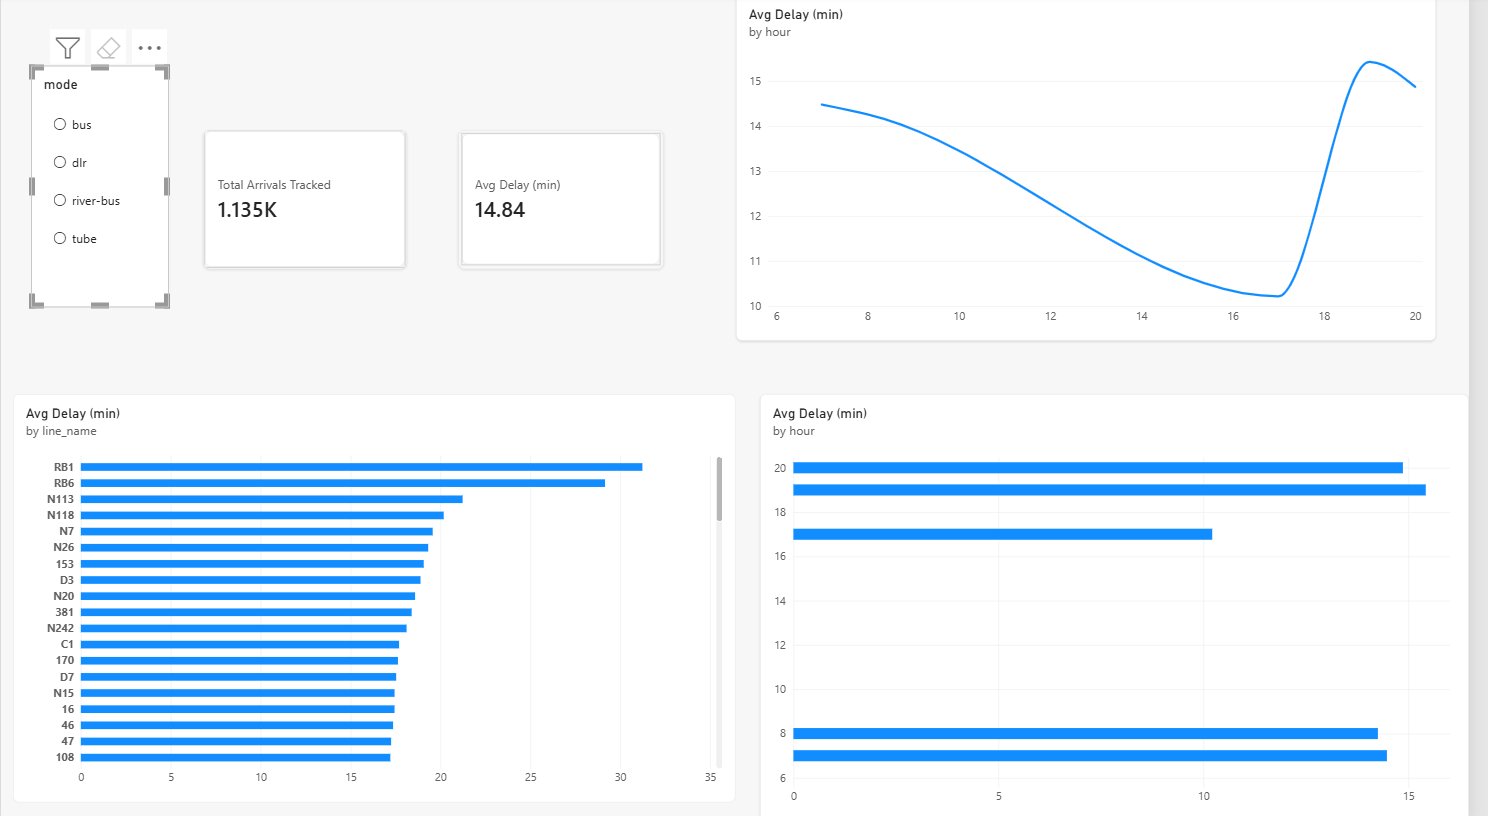

Layout of this report page (visuals, bound fields, positions):
{"tool":"powerbi","page":{"name":"Page 1","canvas":[1920,1080],"ordinal":0},"visuals":[{"type":"cardVisual","fields":{"Data":["fact_arrivals.Total Arrivals Tracked"]},"box":[265.7,177.2,265.7,181.7],"z":0},{"type":"cardVisual","title":"Average Delay by Line (minutes)","fields":{"Data":["fact_arrivals.Avg Delay (min)"]},"box":[597.4,177.2,268,181.7],"z":1000},{"type":"lineChart","fields":{"Category":["dim_time.hour"],"Y":["fact_arrivals.Avg Delay (min)"]},"box":[960.8,0,915.3,452],"z":2000},{"type":"clusteredBarChart","fields":{"Category":["dim_line.line_name"],"Y":["fact_arrivals.Avg Delay (min)"]},"box":[15.9,522.4,944.9,533.8],"z":3000},{"type":"clusteredBarChart","fields":{"Category":["dim_time.hour"],"Y":["fact_arrivals.Avg Delay (min)"]},"box":[992.3,522,926.7,558.7],"z":4000},{"type":"listSlicer","fields":{"Values":["dim_line.mode"]},"box":[38.6,93.1,181.7,315.7],"z":5000},{"type":"textbox","box":[266,0,266,177],"z":5001}]}

Visuals, with their boxes in screenshot pixels (x1, y1, x2, y2), scaled from the page's 1920x1080 canvas onto the 1488x816 screenshot:
cardVisual - fact_arrivals.Total Arrivals Tracked: pyautogui.locateOnScreen(206, 134, 412, 271)
"Average Delay by Line (minutes)" cardVisual: pyautogui.locateOnScreen(463, 134, 671, 271)
lineChart - dim_time.hour x fact_arrivals.Avg Delay (min): pyautogui.locateOnScreen(745, 0, 1454, 342)
clusteredBarChart - dim_line.line_name x fact_arrivals.Avg Delay (min): pyautogui.locateOnScreen(12, 395, 745, 798)
clusteredBarChart - dim_time.hour x fact_arrivals.Avg Delay (min): pyautogui.locateOnScreen(769, 394, 1487, 815)
listSlicer - dim_line.mode: pyautogui.locateOnScreen(30, 70, 171, 309)
textbox: pyautogui.locateOnScreen(206, 0, 412, 134)
